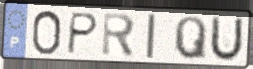I: (145, 12, 157, 60)
O: (30, 9, 63, 57)
P: (65, 11, 100, 56)
Q: (173, 15, 208, 62)
R: (101, 11, 138, 59)
U: (208, 14, 245, 63)
